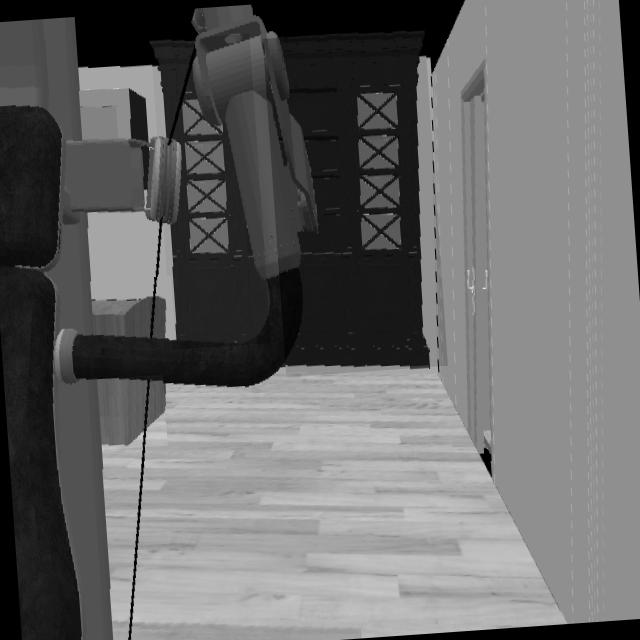bookshelf: (279, 34, 429, 367), (150, 40, 267, 344)
cabinet: (80, 87, 147, 142)
sofa: (92, 278, 174, 339), (99, 379, 164, 447)
